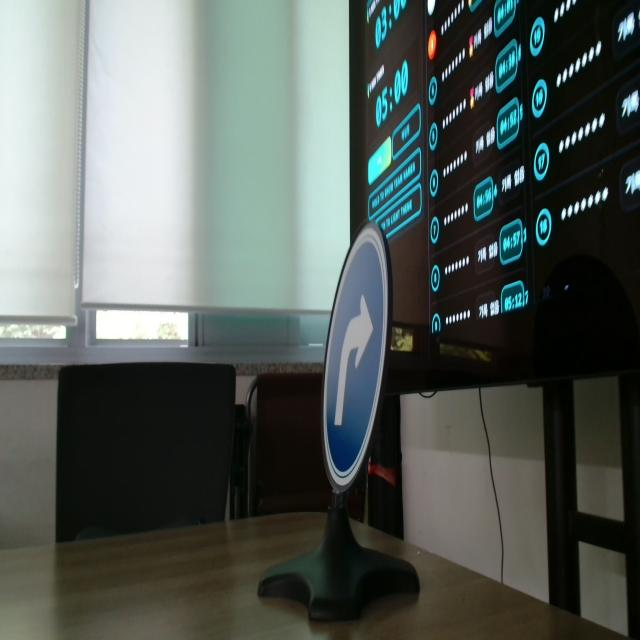right_dierection: (310, 211, 414, 499)
